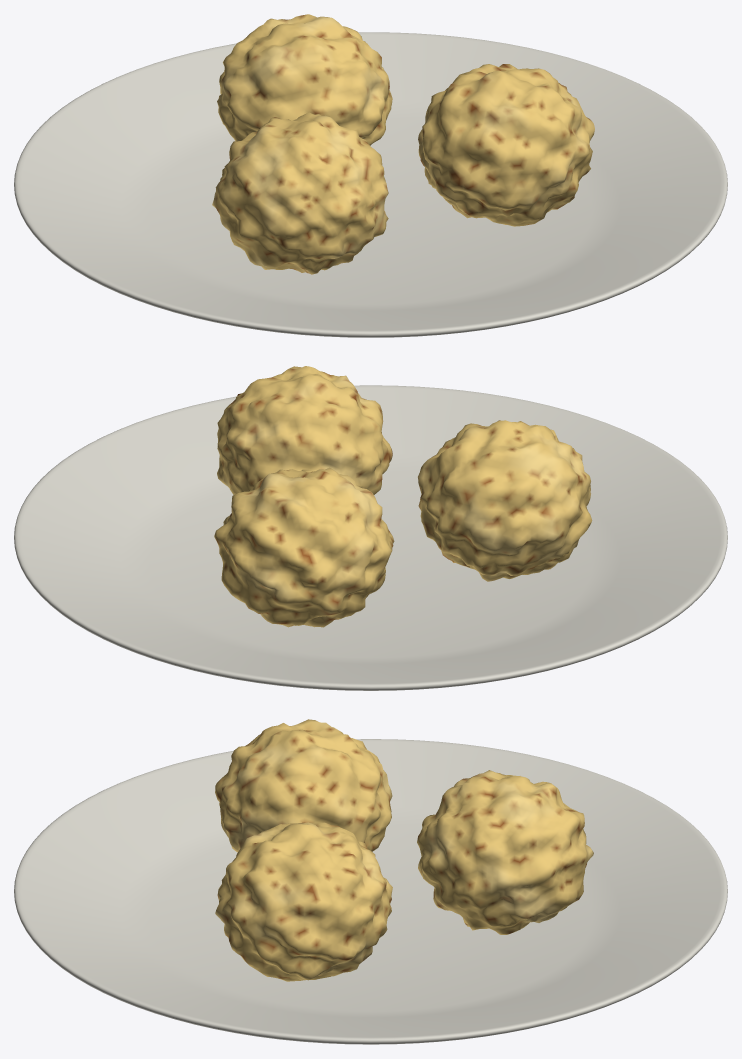
The model's file is paso-3.glb.
3 views of the same model, one above another, from view 1: azimuth 30°, elevation 25°; view 2: azimuth 150°, elevation 25°; view 3: azimuth 270°, elevation 25° (orthographic).
Parts seen in each view (by area): view 1: paso-3-0, paso-3-2, paso-3-1, paso-3-3; view 2: paso-3-0, paso-3-3, paso-3-1, paso-3-2; view 3: paso-3-0, paso-3-2, paso-3-3, paso-3-1.
Boxes of the visible parts, box(x1,y1,x2,y2) form: paso-3-0: box(14, 32, 727, 337); paso-3-2: box(418, 64, 594, 226); paso-3-1: box(212, 112, 388, 274); paso-3-3: box(217, 14, 392, 145); paso-3-0: box(14, 385, 727, 690); paso-3-3: box(214, 467, 394, 627); paso-3-1: box(417, 420, 592, 581); paso-3-2: box(217, 366, 392, 495); paso-3-0: box(14, 739, 727, 1044); paso-3-2: box(215, 822, 392, 981); paso-3-3: box(417, 770, 593, 934); paso-3-1: box(215, 719, 392, 852).
Size of the model in its own units: 0.28 by 0.0668 by 0.28.
